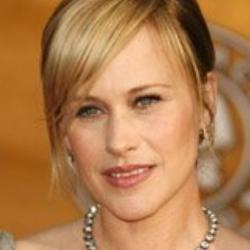face: (21, 1, 236, 228)
